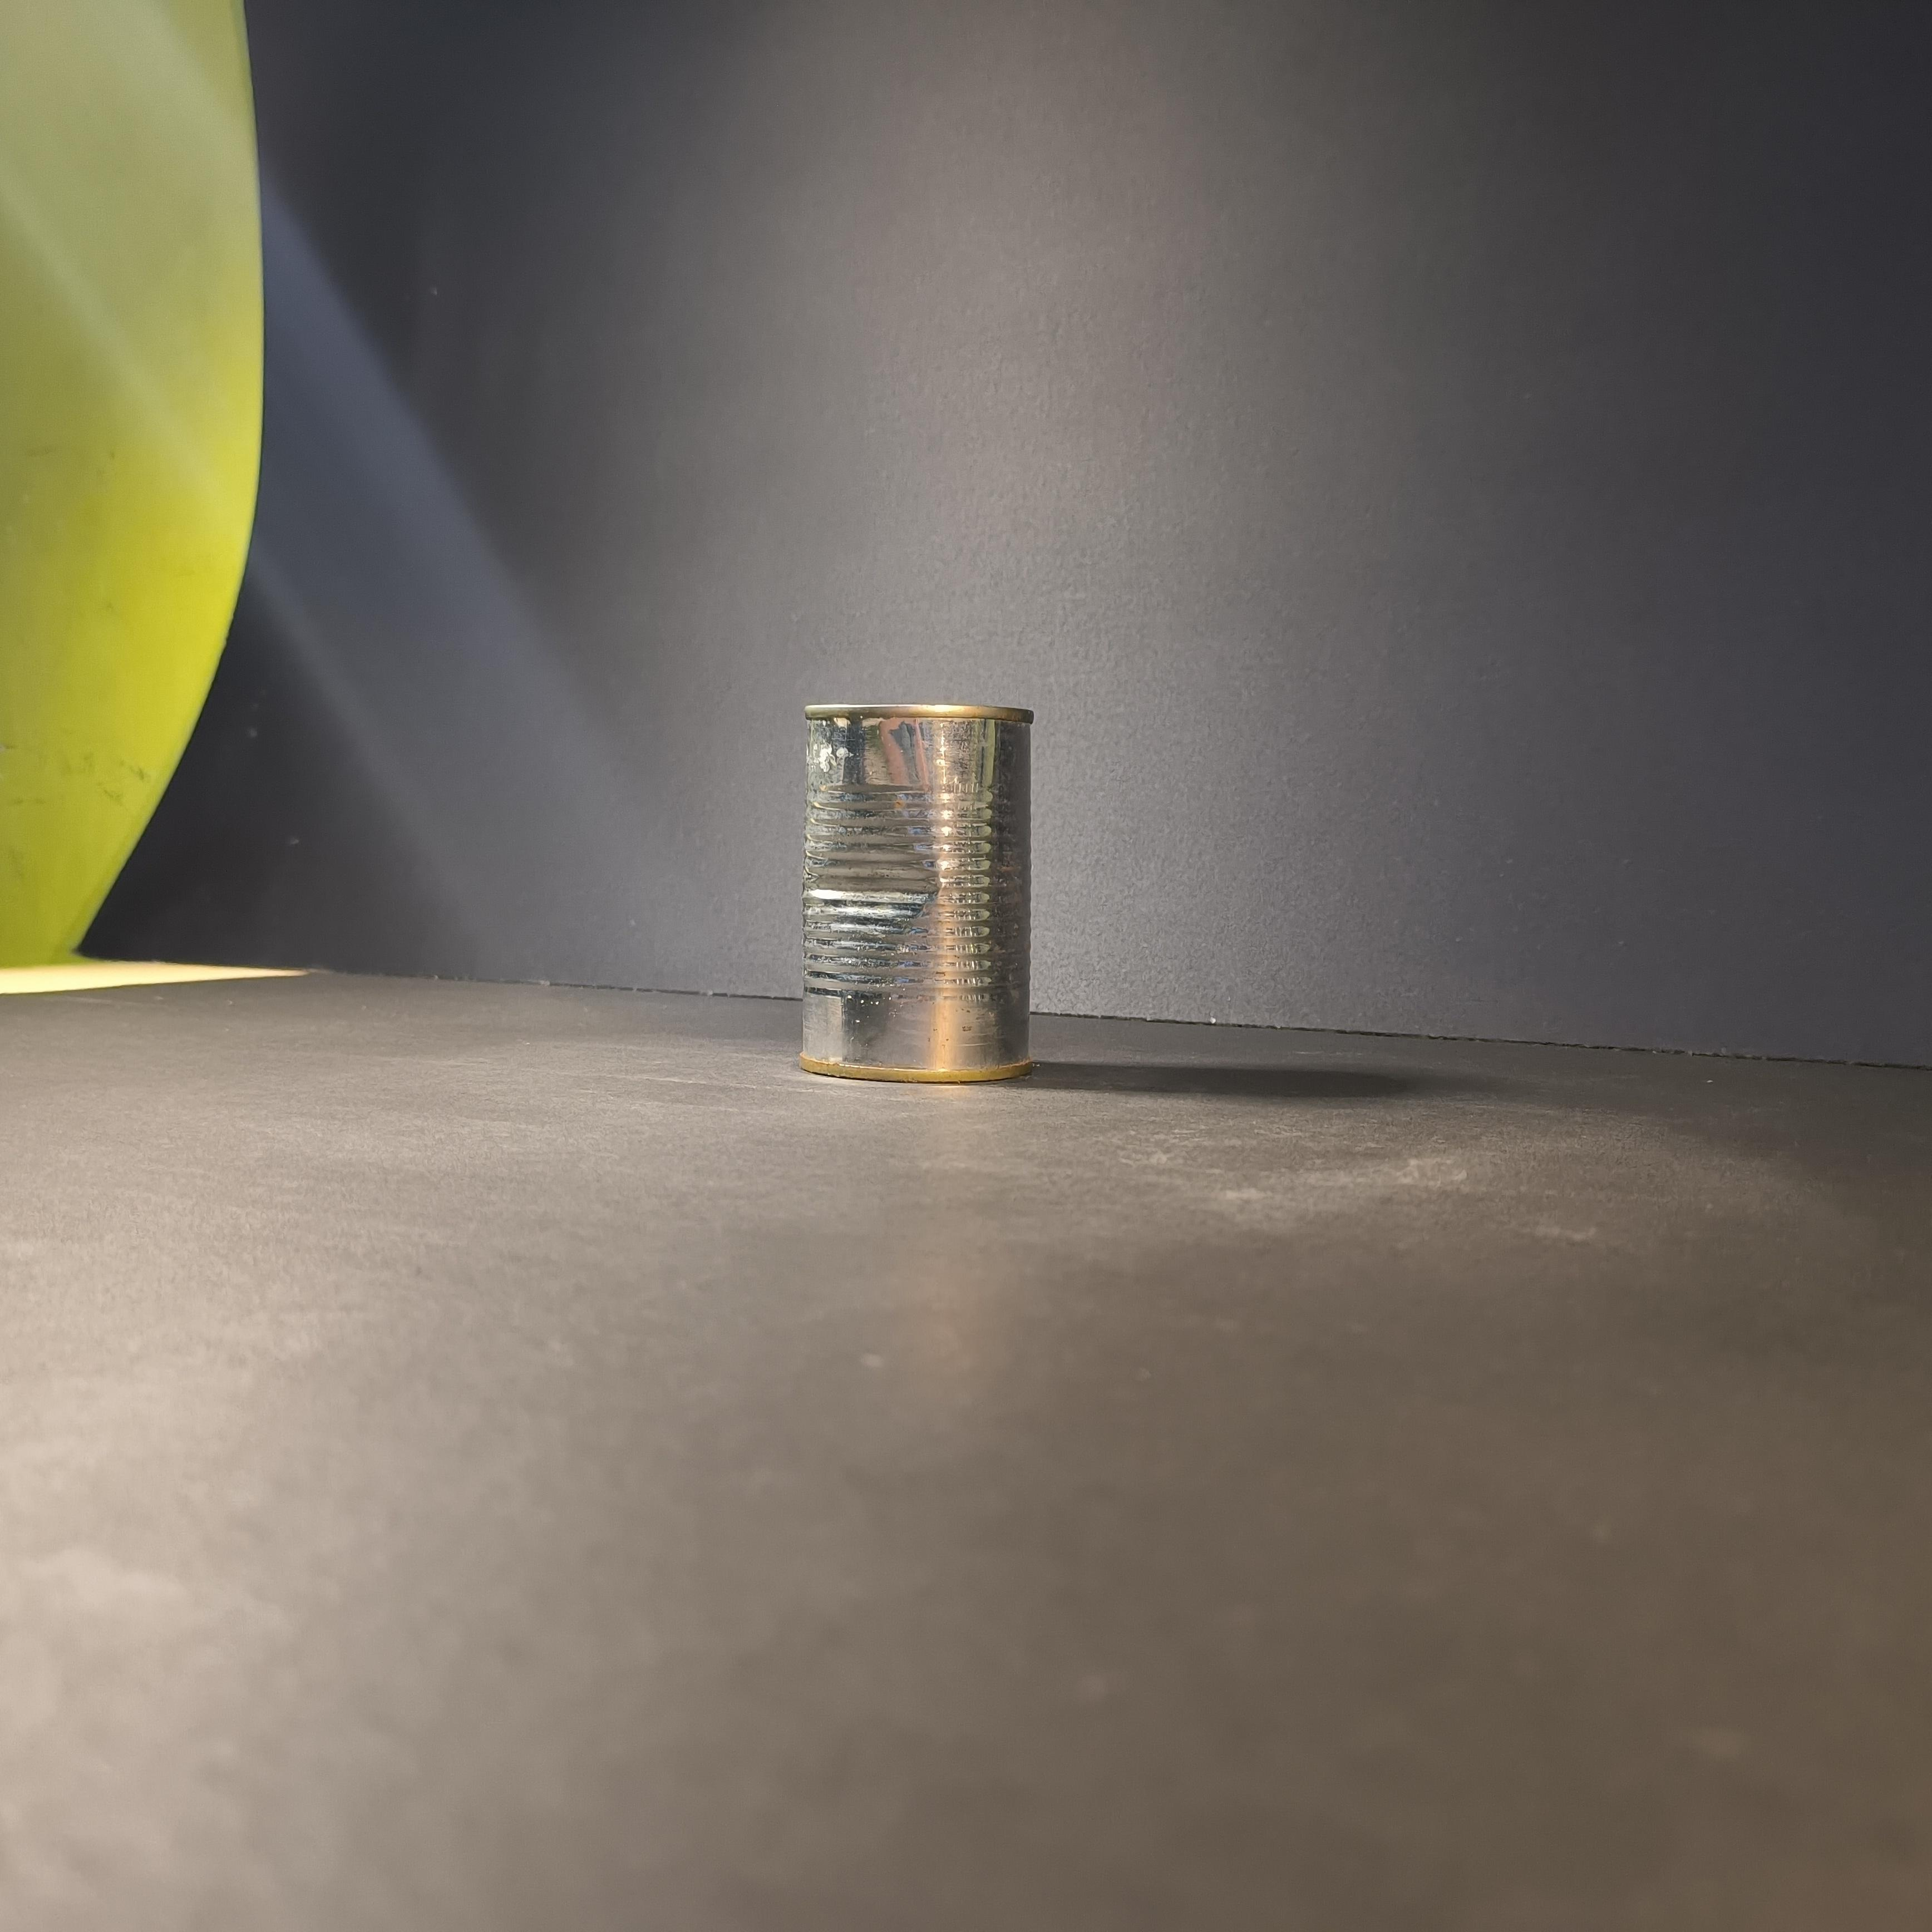Dented: (787, 671, 1060, 1116)
